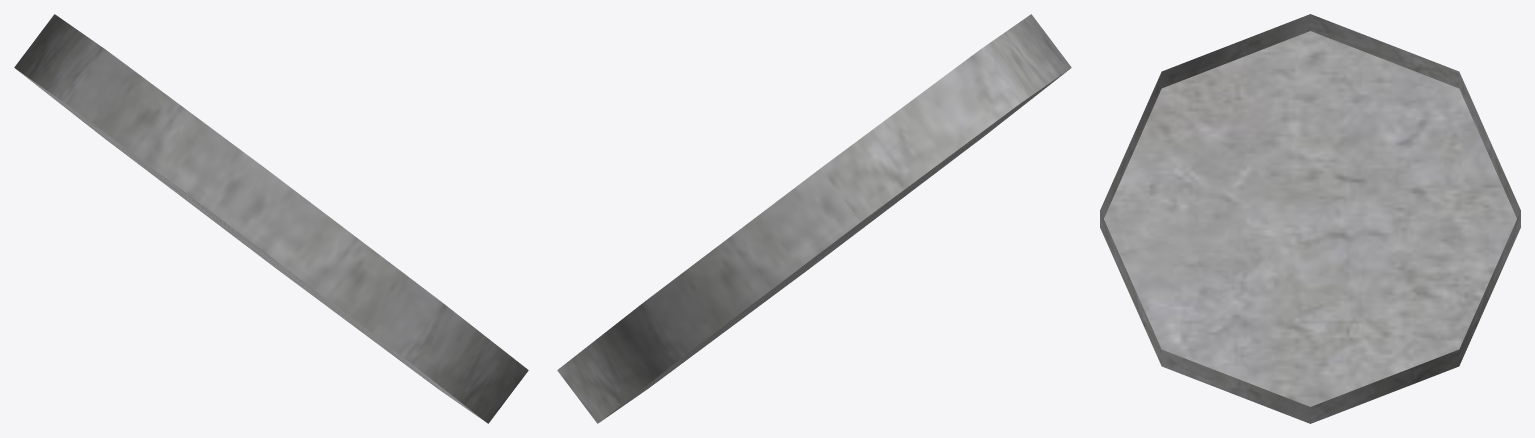
The picture shows the model from 3 angles, left to right: view 1: azimuth 30°, elevation 25°; view 2: azimuth 150°, elevation 25°; view 3: azimuth 270°, elevation 25°; orthographic projection. The views are drawn at different scales.
Visible parts, largest first — view 1: B.001; view 2: B.001; view 3: B.001.
Part boxes in pixels (left/top/right/bottom): B.001: left=14, top=14, right=528, bottom=423; B.001: left=557, top=14, right=1071, bottom=423; B.001: left=1100, top=14, right=1520, bottom=423.
Bounding box in the file's own units: 0.0984 × 0.0957 × 0.1234.
1 material, 1 textured.
